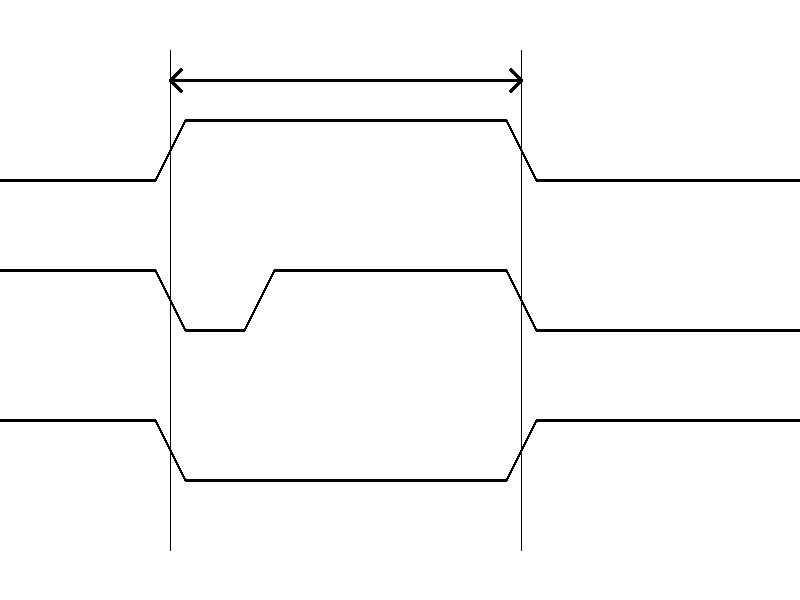double_arrow: (170, 65, 521, 95)
